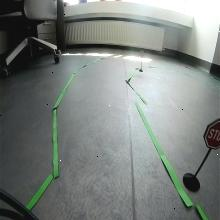stop: (203, 118, 220, 150)
